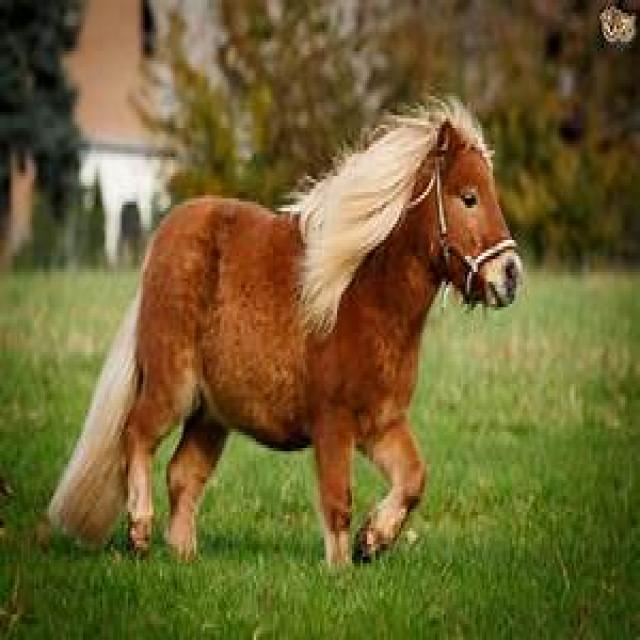horse: (45, 96, 525, 570)
